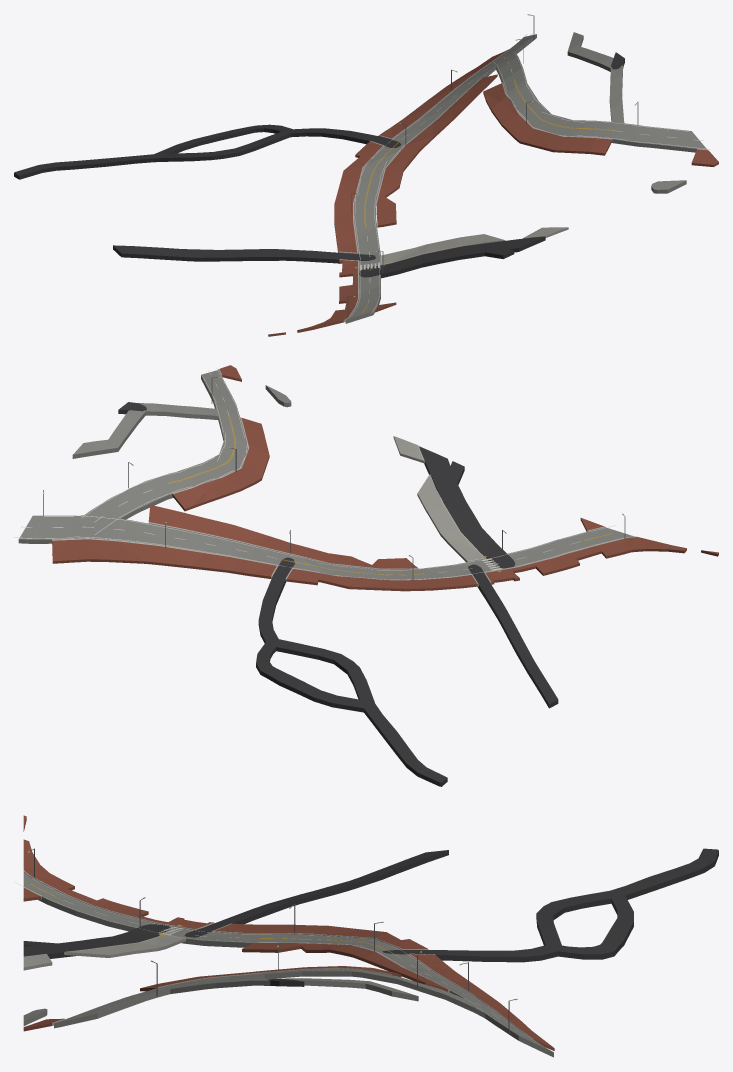
The model's file is 18-218904-118950.9ede85ac.glb.
The picture shows the model from 3 angles, top to bottom: view 1: azimuth 30°, elevation 25°; view 2: azimuth 150°, elevation 25°; view 3: azimuth 270°, elevation 25°; orthographic projection. The views are drawn at different scales.
Size of the model in its own units: 148 by 40.09 by 146.
